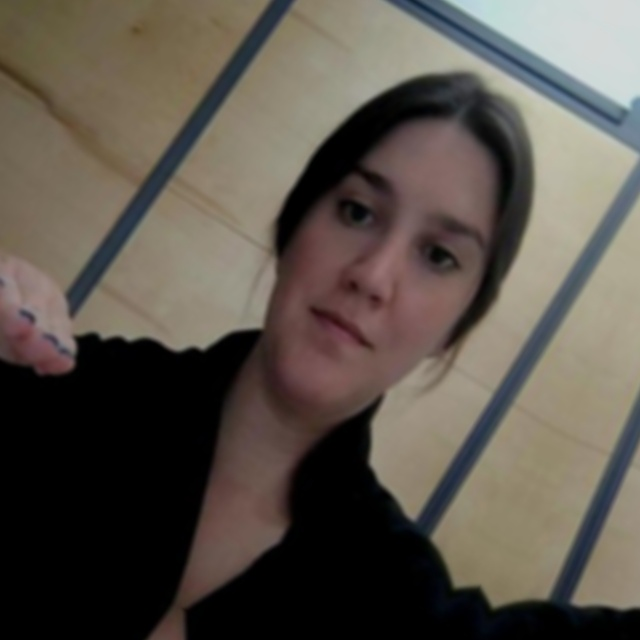Paper: (0, 197, 133, 420)
